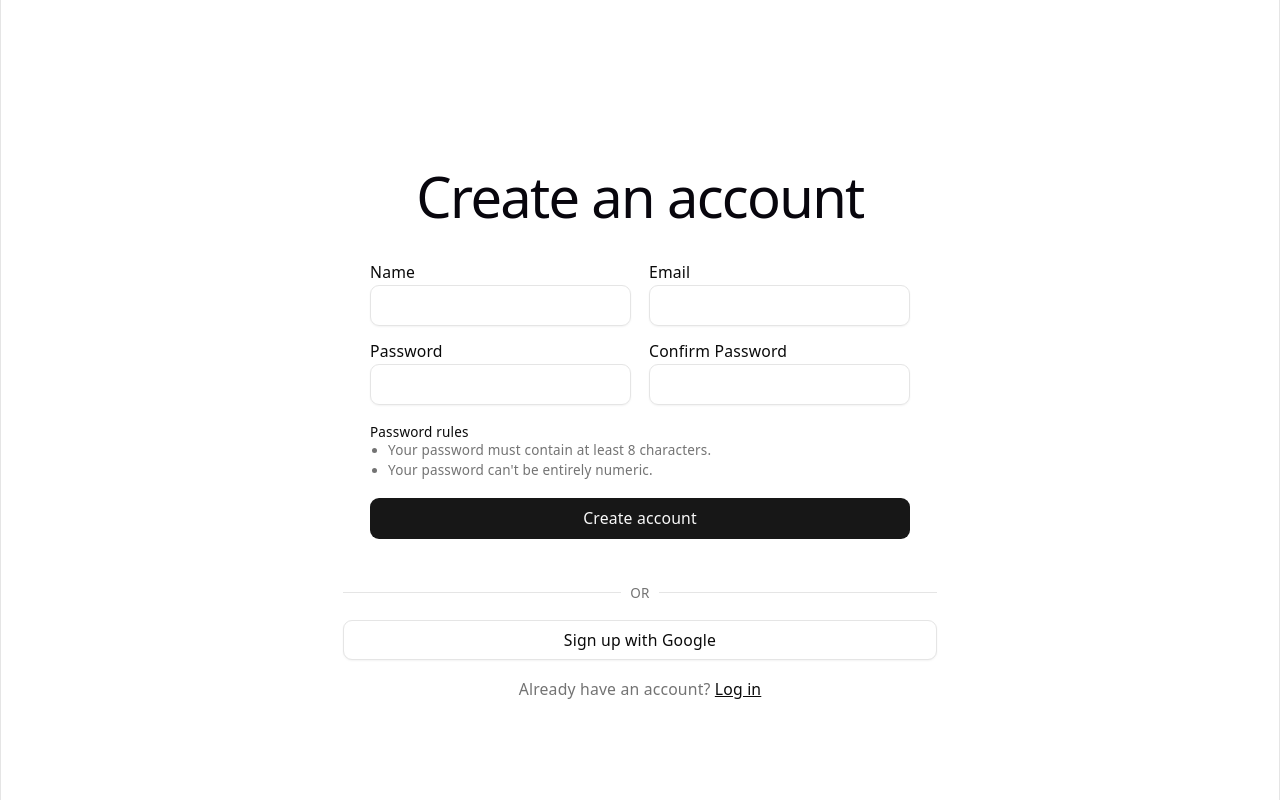
Test case: RegisterPage › on a 409, shows the duplicate-email message and does not navigate
Check: the list item "Your password must contain at least 8 characters." is shown, box [388,441,711,459]
Type "Someone" into the field labelled "Name" at x=500, y=306, box [370,285,631,326]
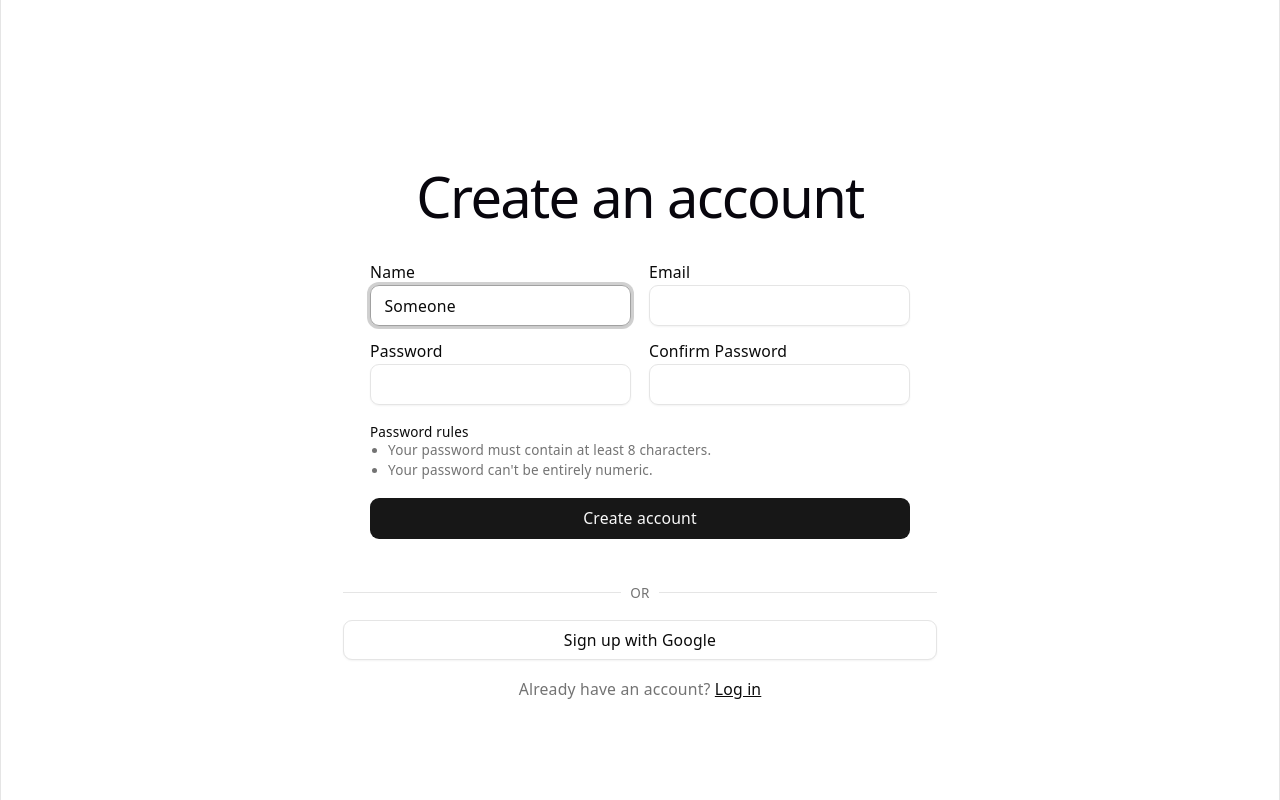
Type "dupe@example.com" into the field labelled "Email" at x=780, y=306, box [649,285,910,326]
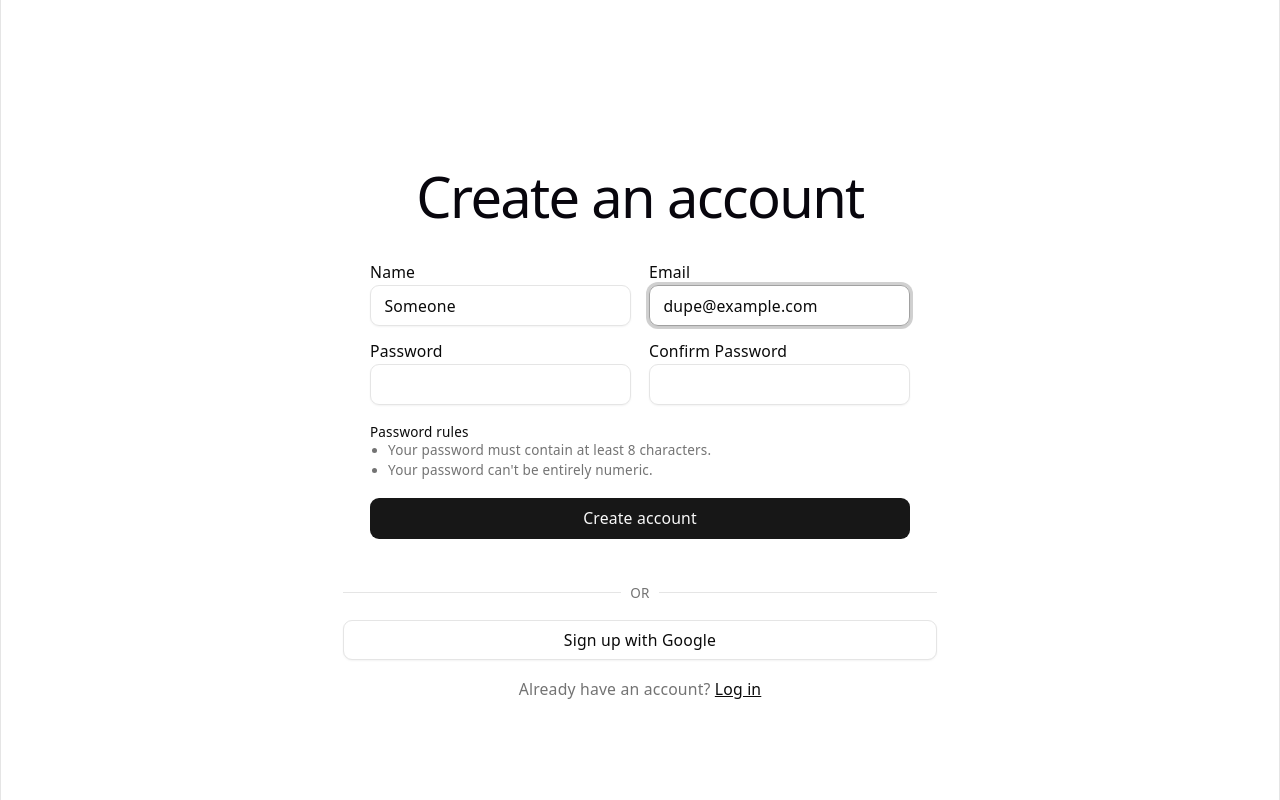
Type "a-real-password-1" into the password field labelled "Password" at x=500, y=384, box [370,364,631,405]
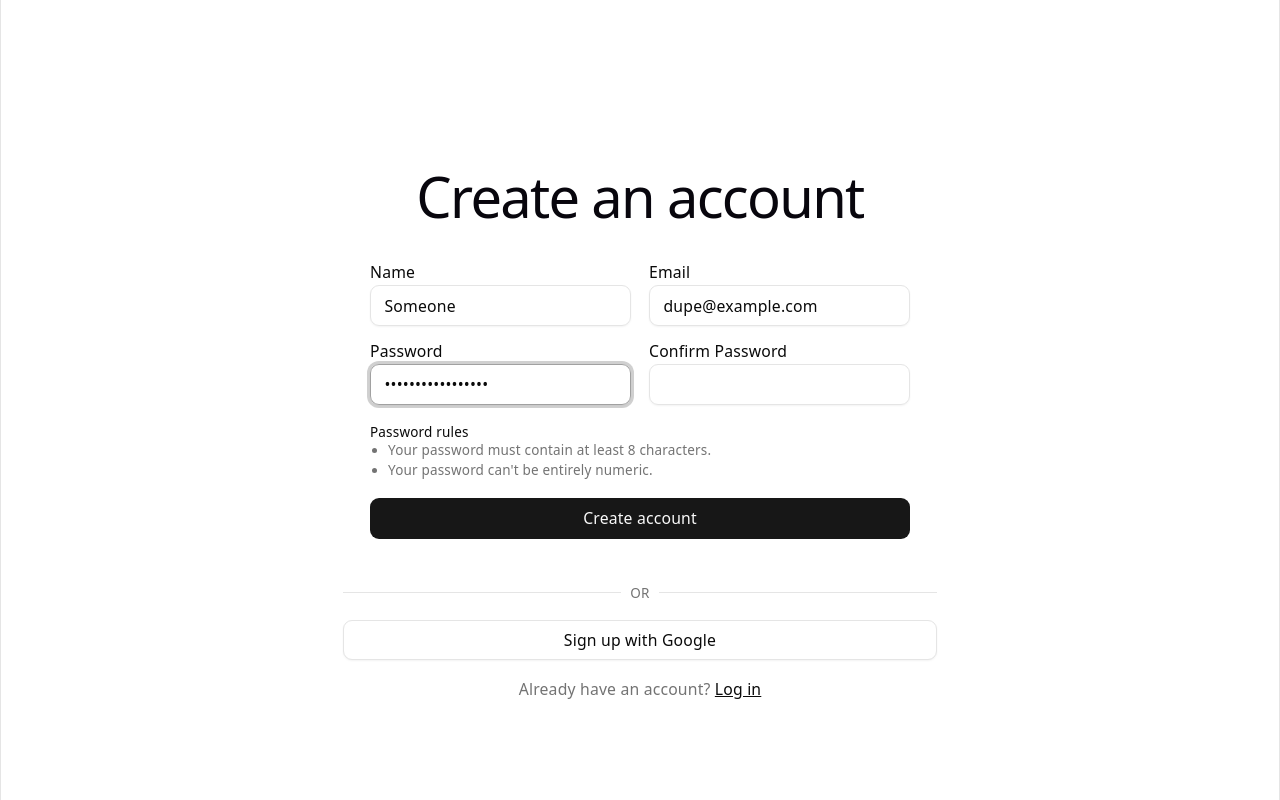
Type "a-real-password-1" into the password field labelled "Confirm Password" at x=780, y=384, box [649,364,910,405]
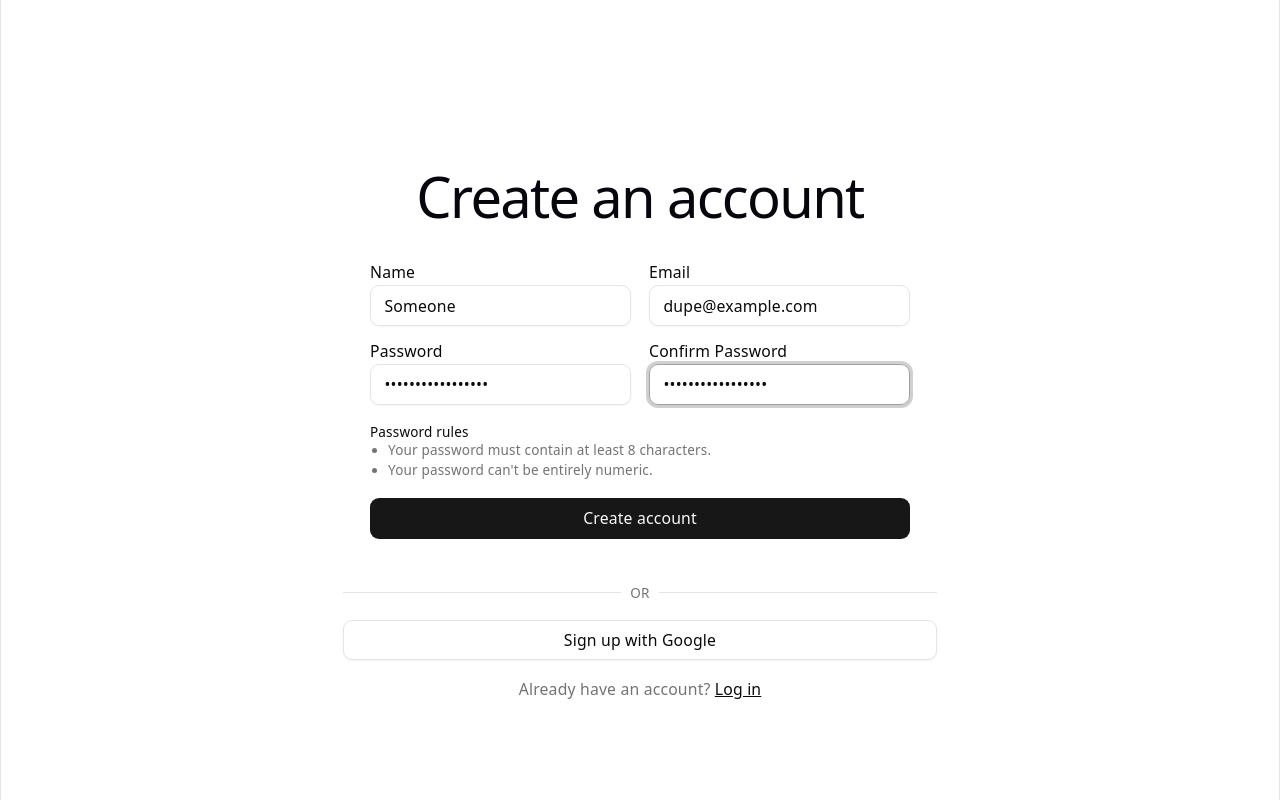
Click the button "Create account" at x=640, y=518, box [370,498,910,538]
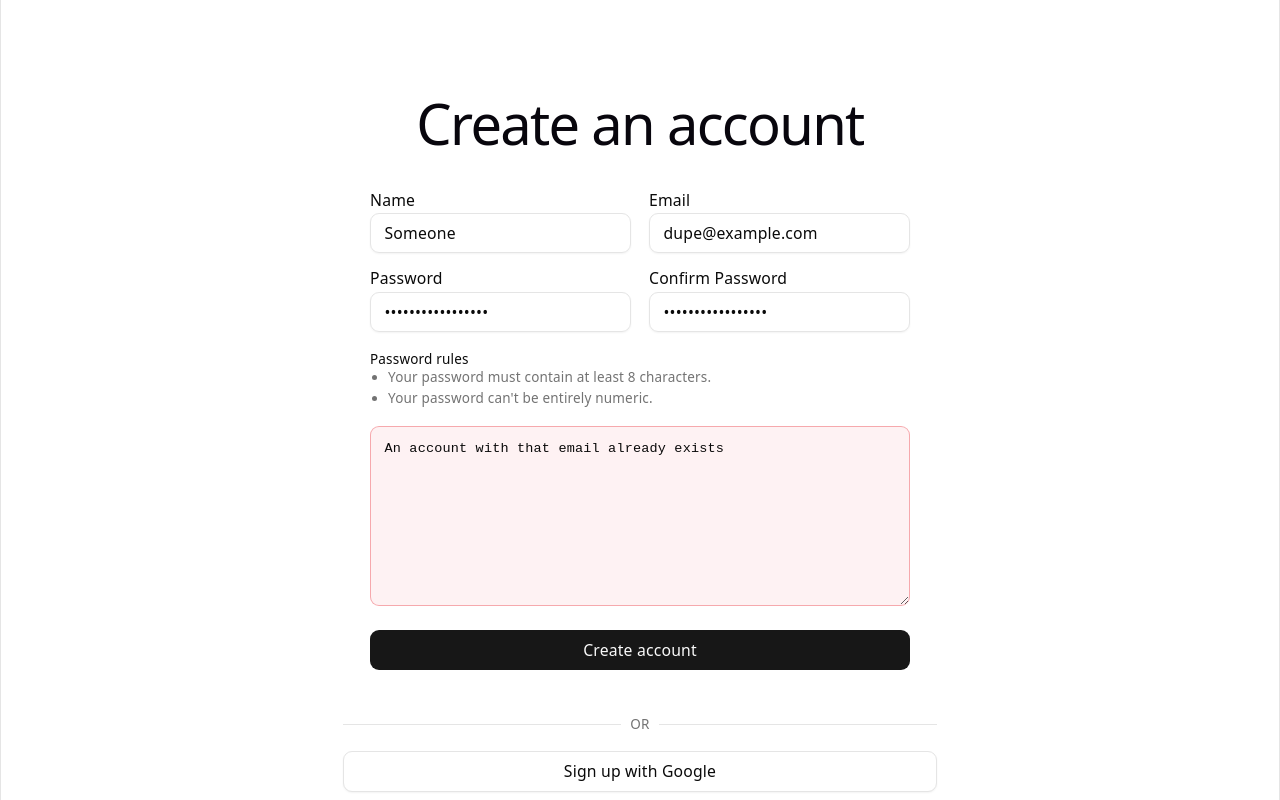
Check: the text box "account with that email already exists" is shown, box [370,426,910,606]
